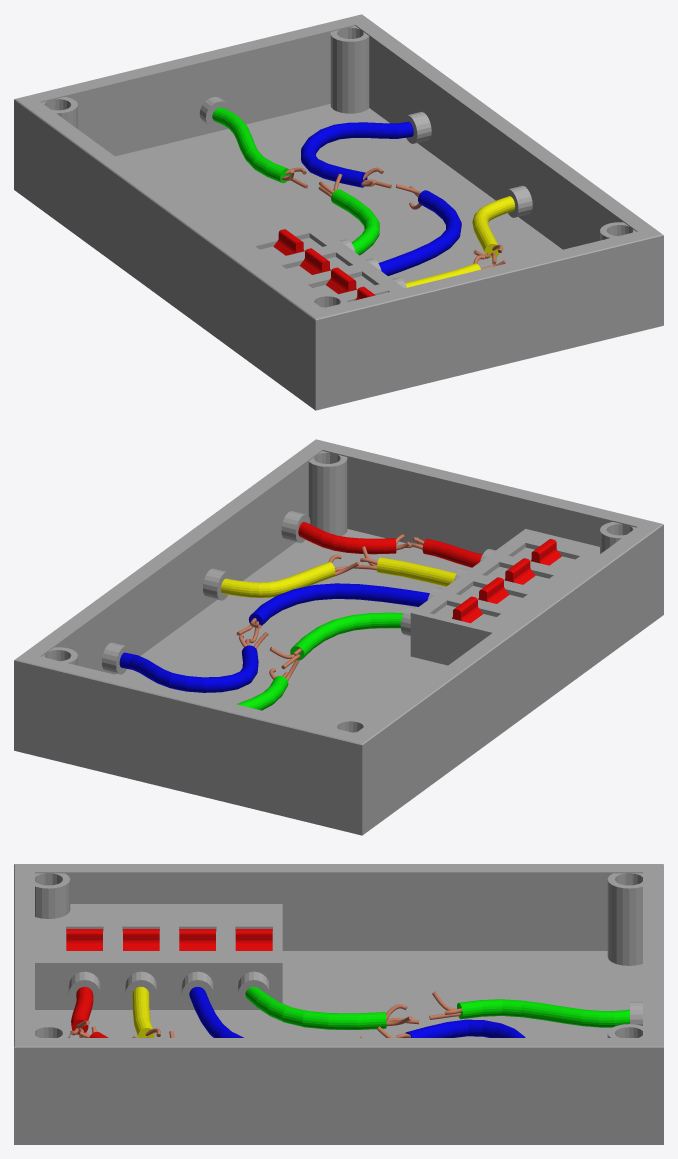
File: Boite_cable_denudee.fbx
The picture shows the model from 3 angles, top to bottom: view 1: azimuth 30°, elevation 25°; view 2: azimuth 150°, elevation 25°; view 3: azimuth 270°, elevation 25°; orthographic projection. The views are drawn at different scales.
Parts seen in each view (by area): view 1: boite_base2; view 2: boite_base2; view 3: boite_base2.
Boxes of the visible parts, left/top/right/bottom form: boite_base2: left=14, top=14, right=663, bottom=410; boite_base2: left=14, top=439, right=663, bottom=835; boite_base2: left=14, top=864, right=663, bottom=1144.
Size of the model in its own units: 20 by 5 by 30.
